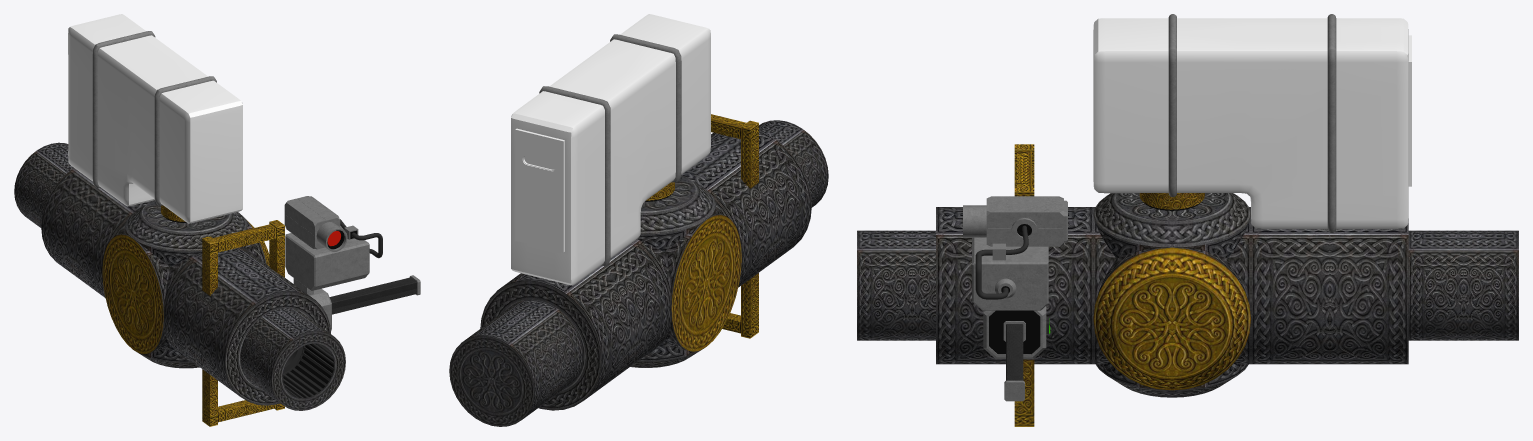
File: potato_cannon.glb
3 views of the same model, side by side, from view 1: azimuth 30°, elevation 25°; view 2: azimuth 150°, elevation 25°; view 3: azimuth 270°, elevation 25° (orthographic). The views are drawn at different scales.
Visible parts, largest first — view 1: irishPotatoCannon, potatoHopper; view 2: irishPotatoCannon, potatoHopper; view 3: irishPotatoCannon, potatoHopper.
Part boxes in pixels (bbox=[...]): irishPotatoCannon: bbox=[14, 31, 420, 426]; potatoHopper: bbox=[68, 14, 242, 223]; irishPotatoCannon: bbox=[449, 34, 828, 426]; potatoHopper: bbox=[511, 14, 710, 285]; irishPotatoCannon: bbox=[857, 14, 1518, 426]; potatoHopper: bbox=[1093, 18, 1411, 228].
Bounding box in the file's own units: 4.19 × 5.22 × 8.4.
Materials: 12 (7 with a texture image).
